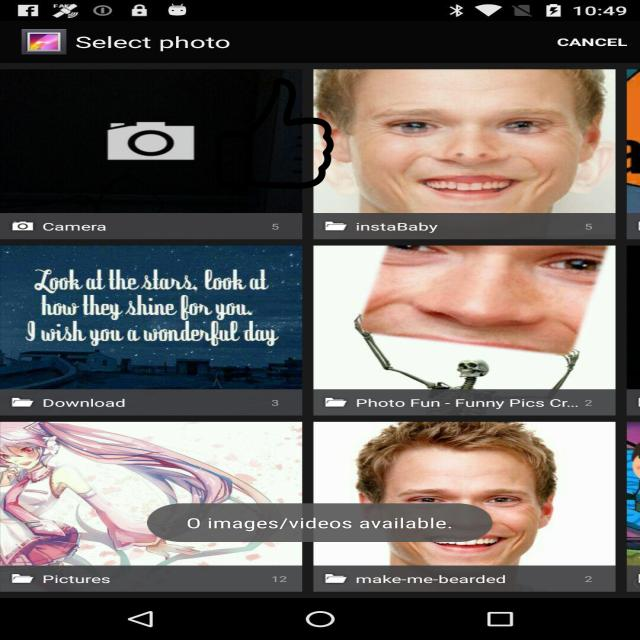privacy zuckering: (214, 78, 335, 189)
